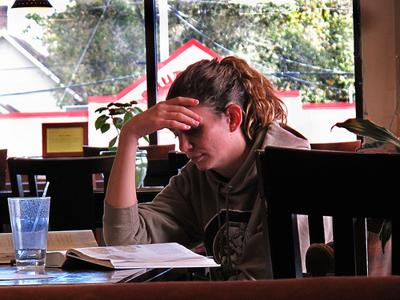person: (102, 57, 314, 284)
